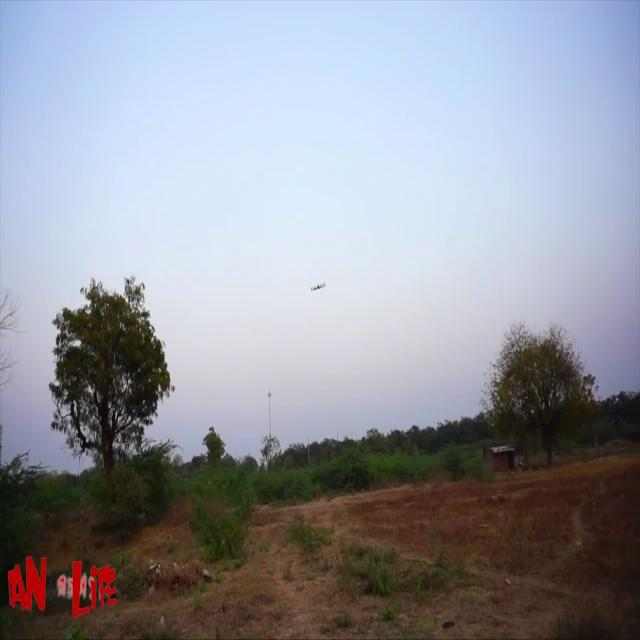drone: (307, 278, 332, 298)
